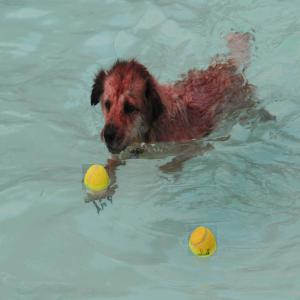TennisBall: (189, 226, 219, 258), (83, 165, 111, 192)
